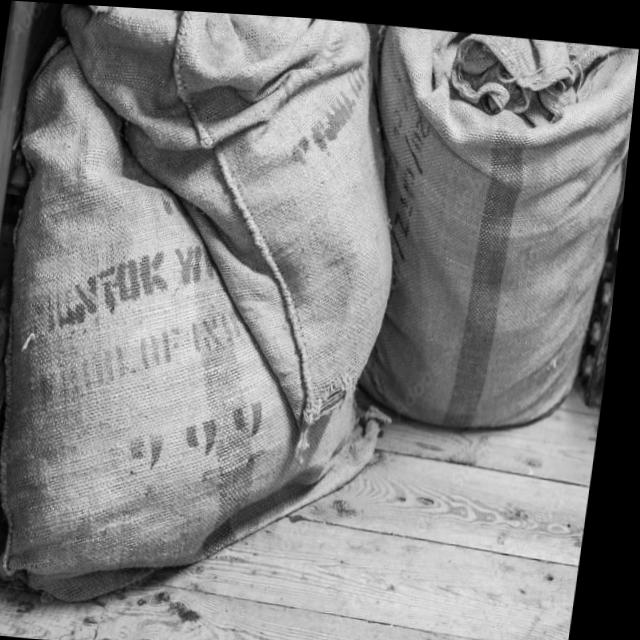sack: (0, 32, 433, 624), (12, 2, 425, 465), (332, 20, 640, 435)
